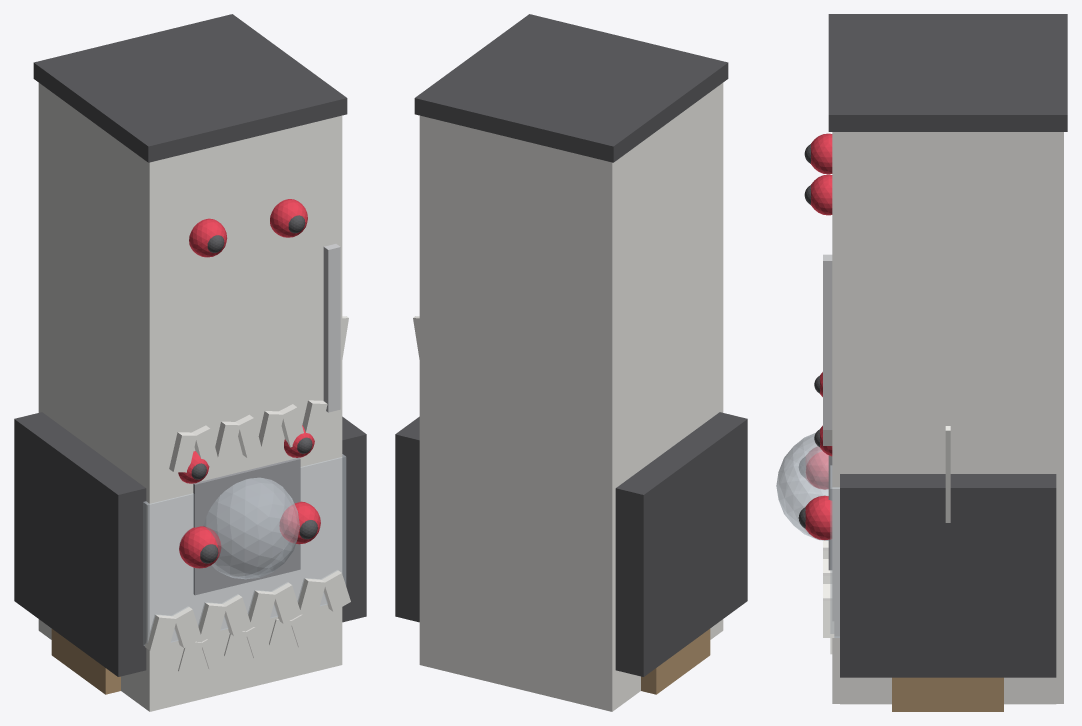
The model's file is props_zed.glb.
The picture shows the model from 3 angles, left to right: view 1: azimuth 30°, elevation 25°; view 2: azimuth 150°, elevation 25°; view 3: azimuth 270°, elevation 25°; orthographic projection. The views are drawn at different scales.
Visible parts, largest first — view 1: lednice_oziva__bila, televize_oziva__cerna, lednice_oziva__cerna, televize_oziva__sklo, pracka_oziva__ocel_tm, pracka_oziva__sklo, televize_oziva__bila, pracka_oziva__bila, lednice_oziva__ocel, televize_oziva__oko, lednice_oziva__oko, radio_oziva__drevo (+1 smaller); view 2: lednice_oziva__bila, televize_oziva__cerna, lednice_oziva__cerna, radio_oziva__drevo; view 3: lednice_oziva__bila, televize_oziva__cerna, lednice_oziva__cerna, radio_oziva__drevo, pracka_oziva__sklo, televize_oziva__oko, lednice_oziva__ocel, lednice_oziva__oko, televize_oziva__sklo, televize_oziva__bila, sekera__bila.
Part boxes in pixels (box(x1,y1,x2,y2)): lednice_oziva__bila: box(38, 83, 342, 711); televize_oziva__cerna: box(14, 412, 366, 676); lednice_oziva__cerna: box(33, 14, 347, 252); televize_oziva__sklo: box(143, 454, 346, 645); pracka_oziva__ocel_tm: box(193, 457, 300, 595); pracka_oziva__sklo: box(203, 477, 299, 579); televize_oziva__bila: box(145, 570, 350, 652); pracka_oziva__bila: box(178, 614, 314, 672); lednice_oziva__ocel: box(323, 244, 340, 412); televize_oziva__oko: box(179, 501, 320, 568); lednice_oziva__oko: box(189, 199, 307, 257); radio_oziva__drevo: box(51, 629, 120, 694); lednice_oziva__bila: box(419, 83, 723, 711); televize_oziva__cerna: box(395, 412, 747, 676); lednice_oziva__cerna: box(414, 14, 728, 162); radio_oziva__drevo: box(641, 629, 710, 694); lednice_oziva__bila: box(823, 132, 1063, 703); televize_oziva__cerna: box(798, 457, 1056, 677); lednice_oziva__cerna: box(804, 14, 1067, 204); radio_oziva__drevo: box(892, 677, 1003, 711); pracka_oziva__sklo: box(776, 432, 828, 540); televize_oziva__oko: box(805, 447, 832, 540); lednice_oziva__ocel: box(823, 254, 832, 429); lednice_oziva__oko: box(810, 133, 832, 215); televize_oziva__sklo: box(830, 465, 839, 637); televize_oziva__bila: box(823, 540, 834, 637); sekera__bila: box(945, 426, 950, 522).
Bounding box in the file's own units: 0.9062 × 1.76 × 0.78.
